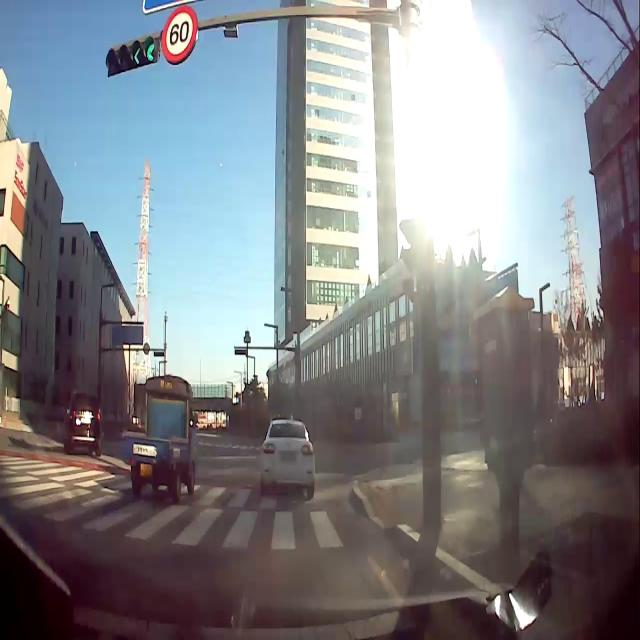Green Light: (144, 36, 156, 66)
